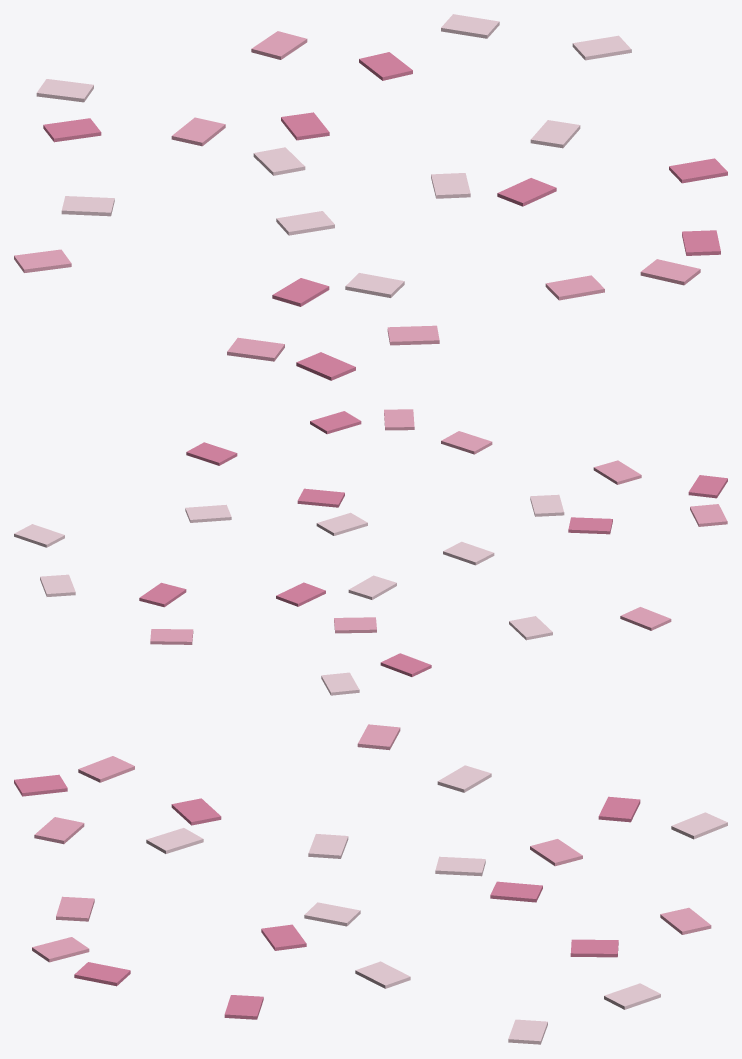
The model's file is sakura_garden_petals.glb.
3 views of the same model, one above another, from view 1: azimuth 30°, elevation 25°; view 2: azimuth 150°, elevation 25°; view 3: azimuth 270°, elevation 25° (orthographic). The views are drawn at different scales.
Parts seen in each view (by area): view 1: sakura_garden_petals; view 2: sakura_garden_petals; view 3: sakura_garden_petals.
Part boxes in pixels (bbox=[...]): sakura_garden_petals: bbox=[14, 14, 727, 380]; sakura_garden_petals: bbox=[14, 409, 727, 695]; sakura_garden_petals: bbox=[14, 724, 727, 1044].
Bounding box in the file's own units: 0.7978 × 0.004 × 0.7596.
1 material, 1 textured.
